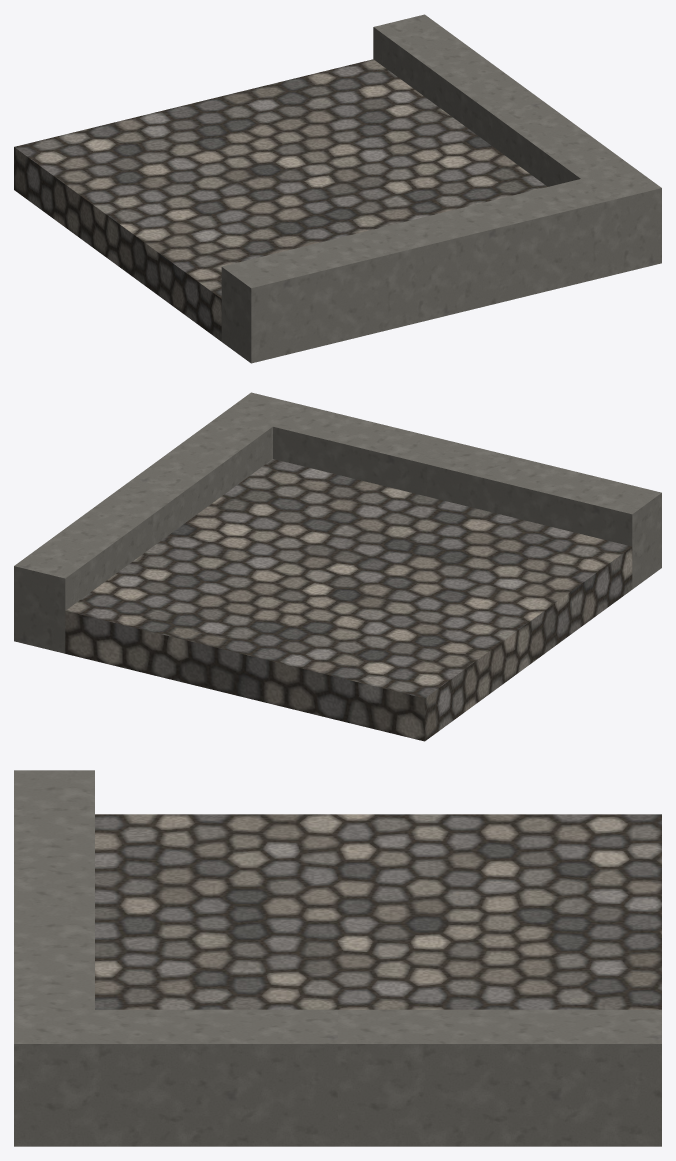
Rendered from road-corner.glb.
The picture shows the model from 3 angles, top to bottom: view 1: azimuth 30°, elevation 25°; view 2: azimuth 150°, elevation 25°; view 3: azimuth 270°, elevation 25°; orthographic projection. The views are drawn at different scales.
Parts seen in each view (by area): view 1: RoadCorner_cobble, RoadCorner_granite; view 2: RoadCorner_cobble, RoadCorner_granite; view 3: RoadCorner_cobble, RoadCorner_granite.
Boxes of the visible parts, x1=… form: RoadCorner_cobble: x1=14, y1=59, x2=547, y2=341; RoadCorner_granite: x1=221, y1=14, x2=661, y2=363; RoadCorner_cobble: x1=65, y1=459, x2=632, y2=741; RoadCorner_granite: x1=14, y1=392, x2=661, y2=653; RoadCorner_cobble: x1=95, y1=814, x2=661, y2=1009; RoadCorner_granite: x1=14, y1=770, x2=661, y2=1146.
Size of the model in its own units: 2 by 0.35 by 2.
Materials: 2 (2 with a texture image).
